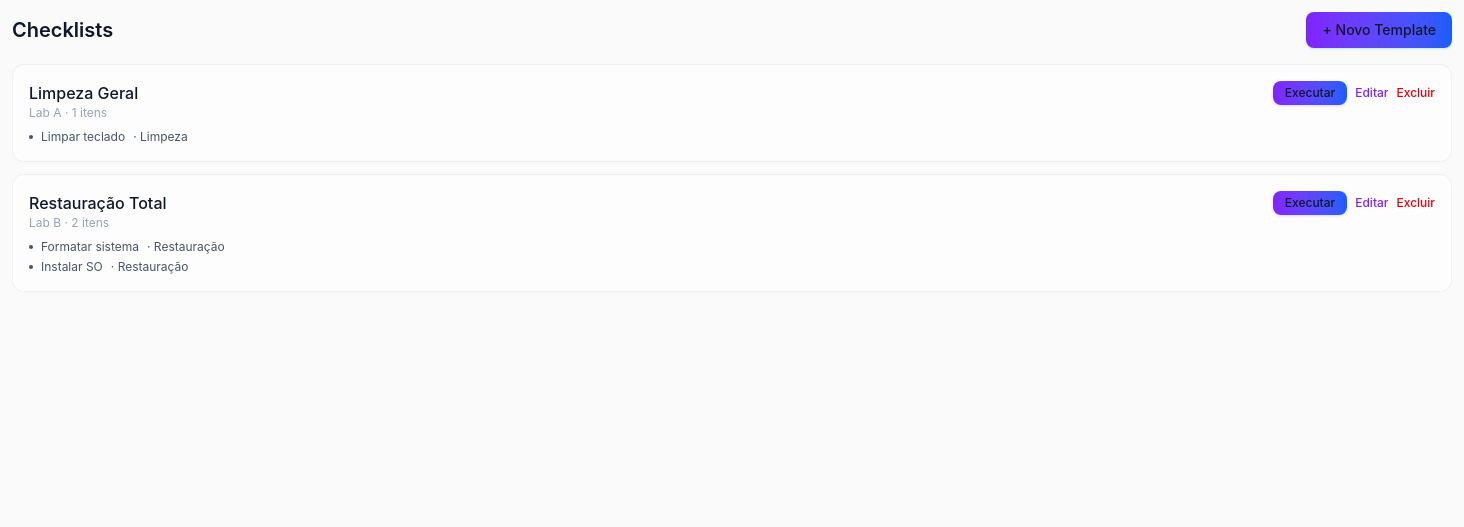
Test case: ChecklistTemplates › fecha formulário ao clicar "Cancelar"
What coordinates should you click on to do the following:
click the button "+ Novo Template"
I would click on:
 (1379, 30)
Its box is 1306,12 -> 1452,48.
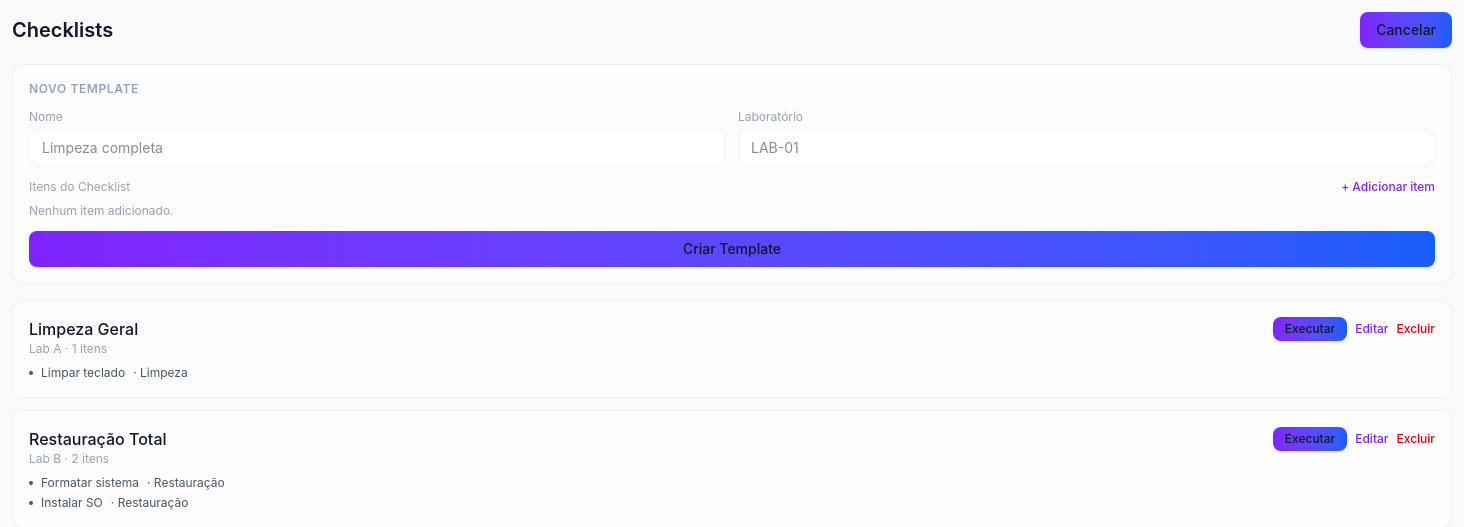
Check: the button "Criar Template" is shown, box 29,231 -> 1435,267
What coordinates should you click on to do the following:
click the button "Cancelar"
I would click on:
 (1406, 30)
Its box is 1360,12 -> 1452,48.
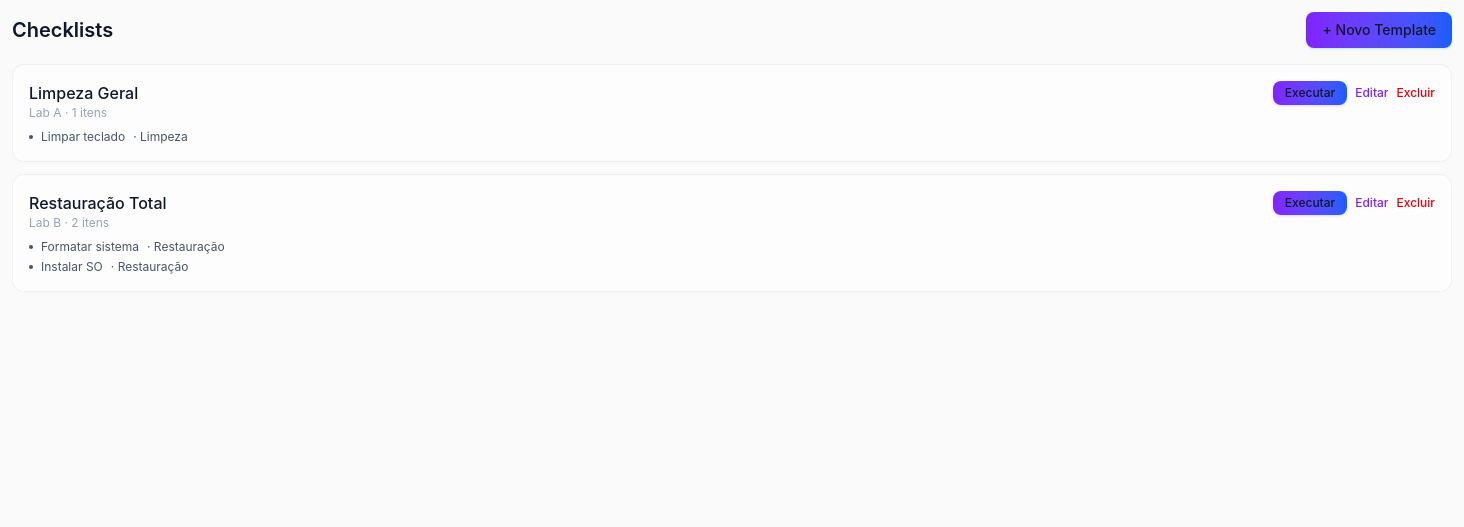
Check: the button "Criar Template" is gone
